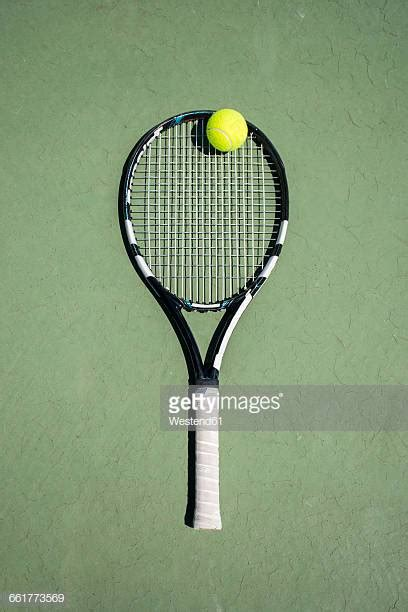tennis_ball: (205, 108, 248, 153)
